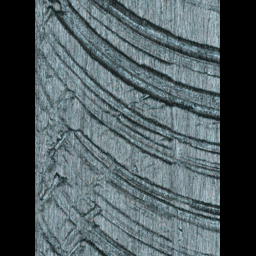d: (35, 2, 218, 256)
